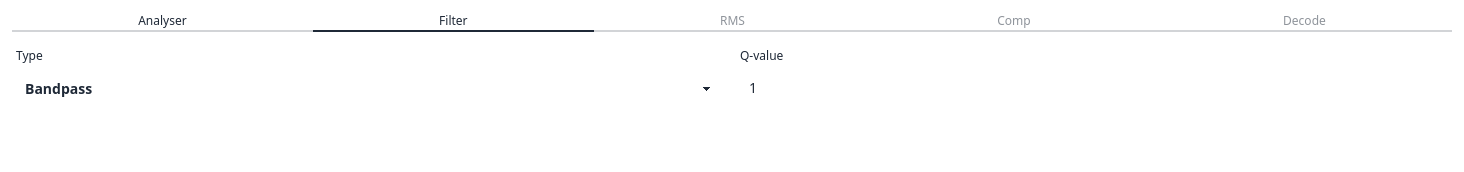
Test: can show RMS settings
Click the button "RMS" at (732, 22), box [594,12,871,32]
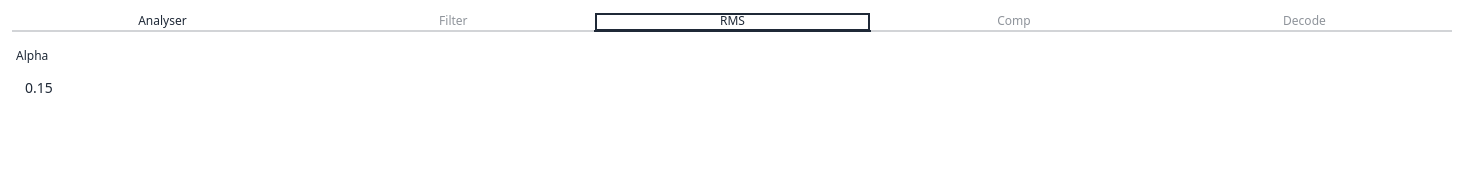
Now the text "Alpha" is shown, box [16,47,48,64]
